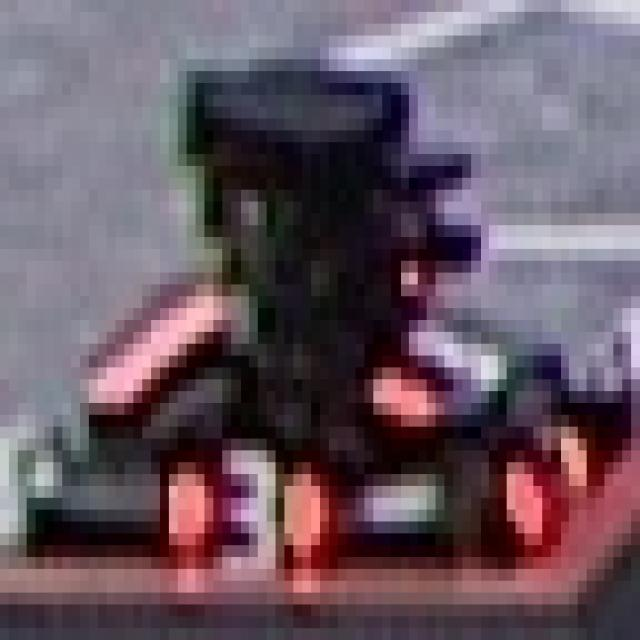R3: (169, 426, 320, 580)
